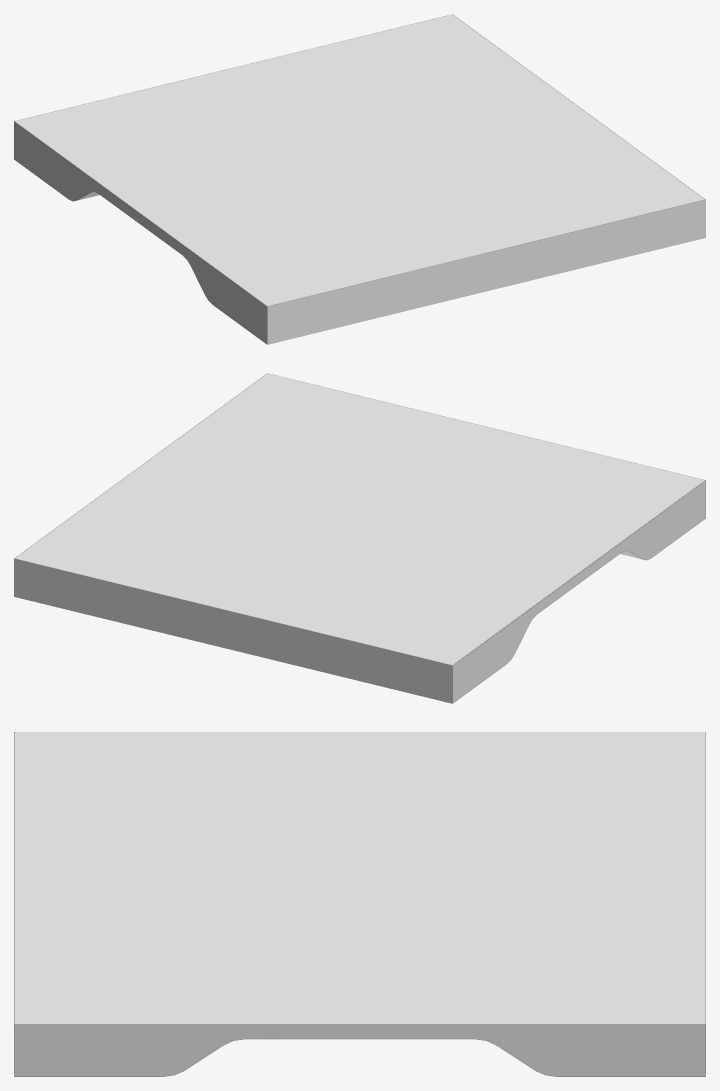
Rendered from Roof_Normal_01.FBX.
3 renders of one model, top to bottom at view 1: azimuth 30°, elevation 25°; view 2: azimuth 150°, elevation 25°; view 3: azimuth 270°, elevation 25°, orthographic. The views are drawn at different scales.
Parts seen in each view (by area): view 1: Roof_Normal_01; view 2: Roof_Normal_01; view 3: Roof_Normal_01.
Part boxes in pixels (x1,y1,x2,y2): Roof_Normal_01: [14, 14, 705, 344]; Roof_Normal_01: [14, 373, 705, 703]; Roof_Normal_01: [14, 732, 705, 1076].
Bounding box in the file's own units: 12 × 1 × 12.
